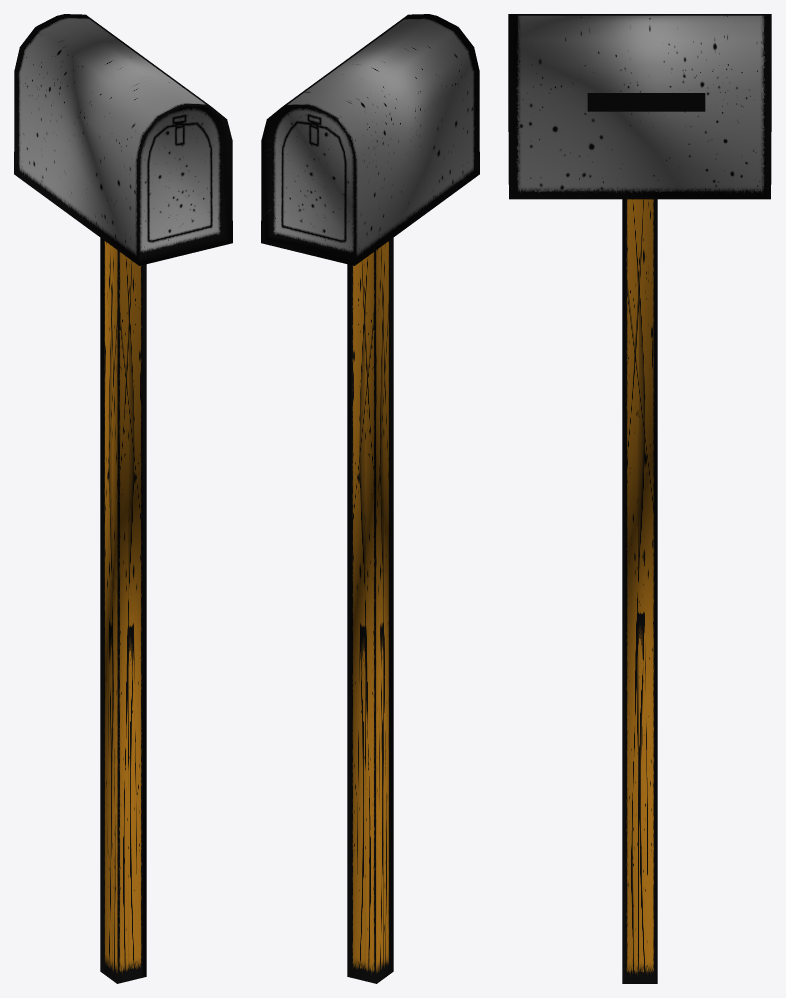
The model's file is mail_box.obj.
The picture shows the model from 3 angles, left to right: view 1: azimuth 30°, elevation 25°; view 2: azimuth 150°, elevation 25°; view 3: azimuth 270°, elevation 25°; orthographic projection. The views are drawn at different scales.
Visible parts, largest first — view 1: mail_box; view 2: mail_box; view 3: mail_box.
Part boxes in pixels (left/top/right/bottom): mail_box: left=14, top=14, right=232, bottom=983; mail_box: left=261, top=14, right=479, bottom=983; mail_box: left=508, top=14, right=771, bottom=983.
Bounding box in the file's own units: 0.7957 × 7.18 × 1.79.
